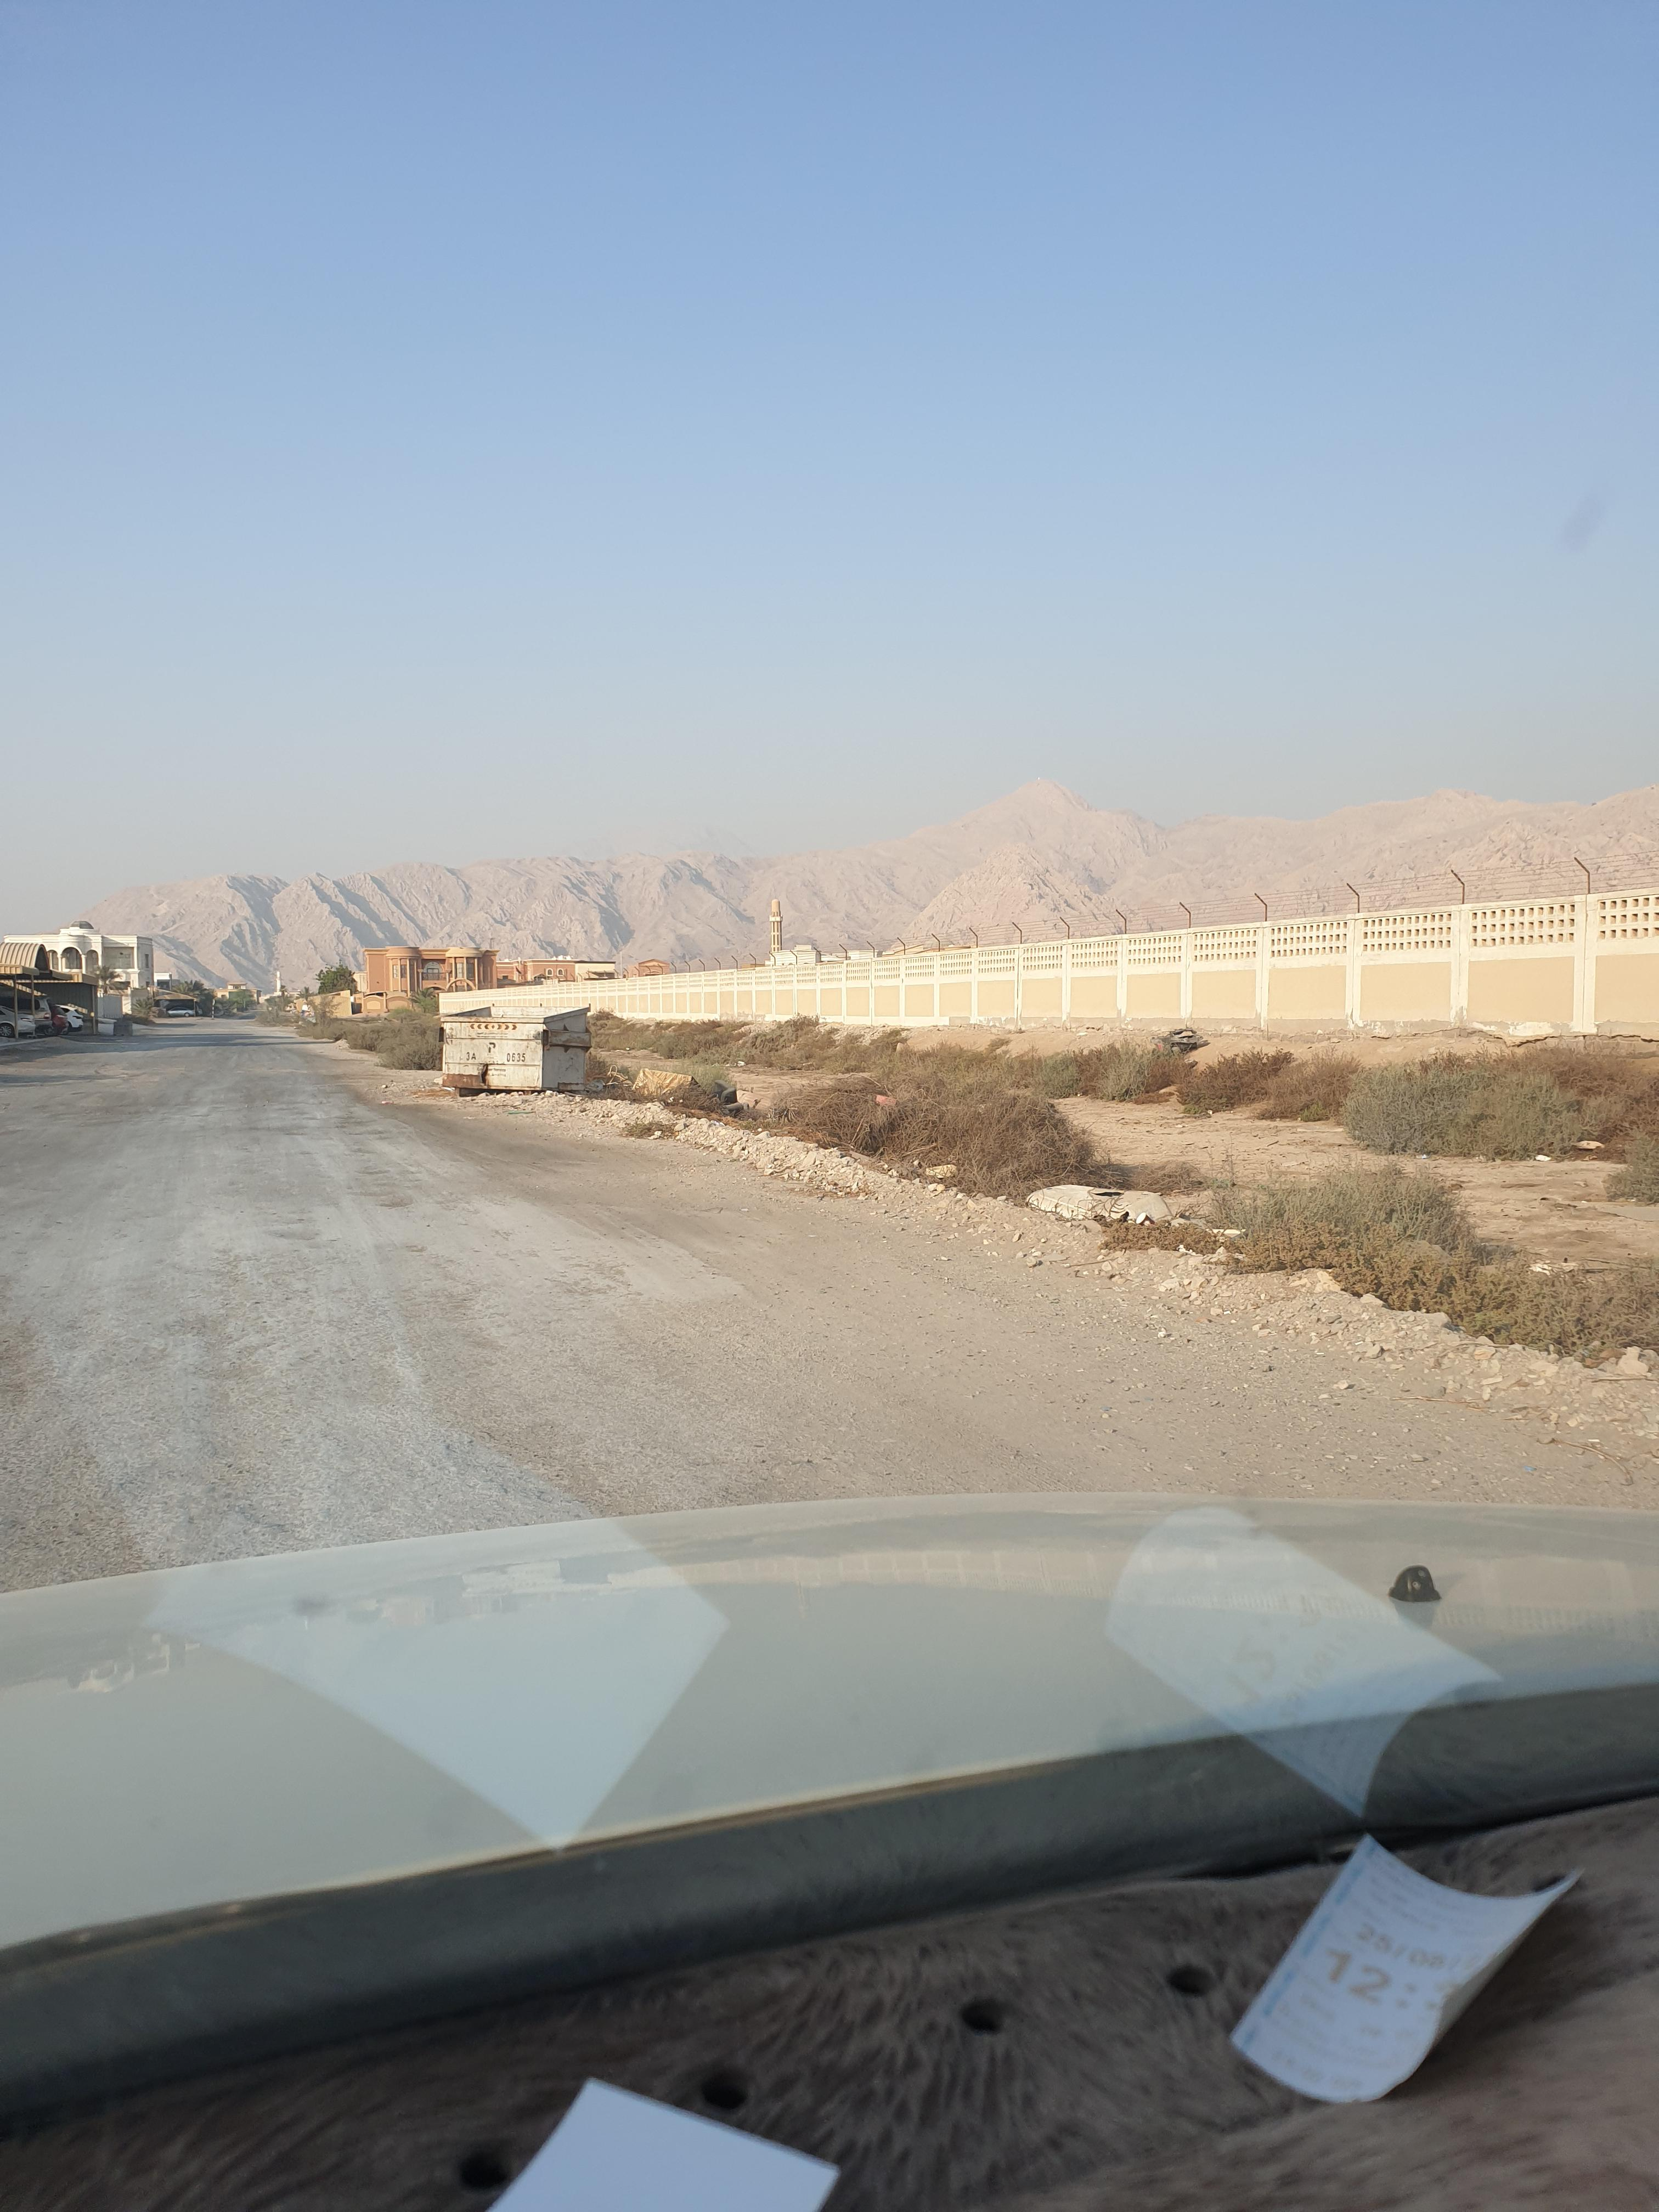uncollected_waste: (1033, 1179, 1187, 1230), (622, 1061, 755, 1116), (1155, 1019, 1215, 1057)
